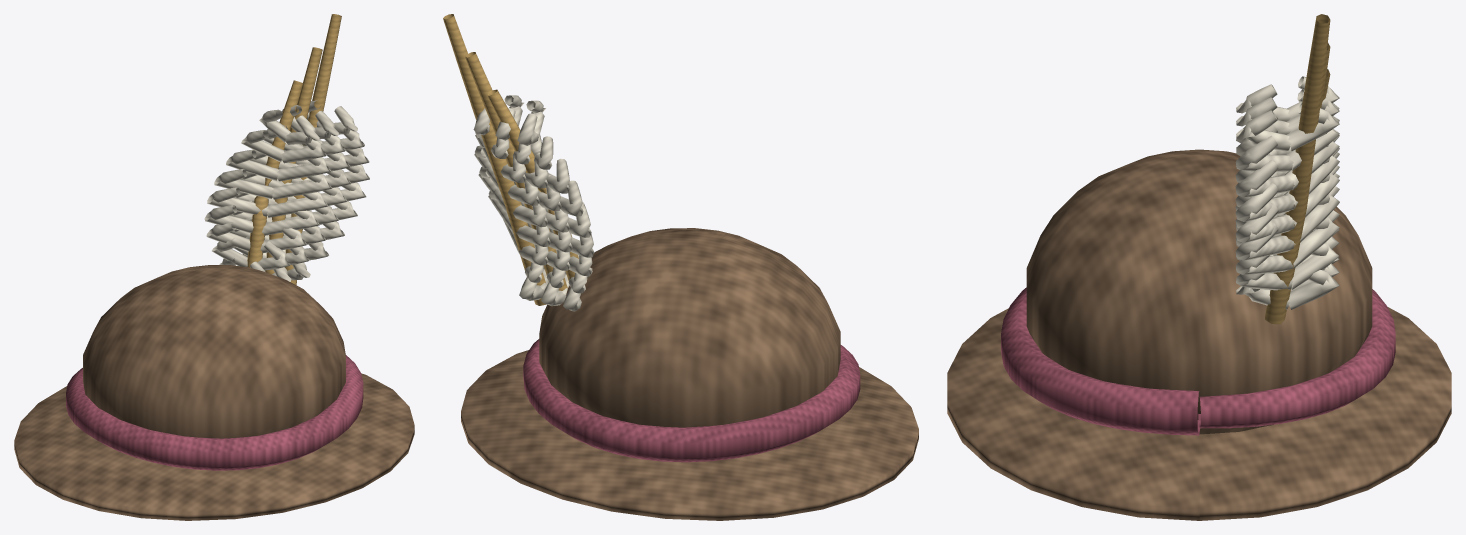
The model's file is acc_feather_hat.glb.
The picture shows the model from 3 angles, left to right: view 1: azimuth 30°, elevation 25°; view 2: azimuth 150°, elevation 25°; view 3: azimuth 270°, elevation 25°; orthographic projection. The views are drawn at different scales.
Visible parts, largest first — view 1: acc_feather_hat; view 2: acc_feather_hat; view 3: acc_feather_hat.
Part boxes in pixels (x1=…): acc_feather_hat: x1=14, y1=14, x2=414, y2=520; acc_feather_hat: x1=443, y1=14, x2=918, y2=520; acc_feather_hat: x1=947, y1=14, x2=1451, y2=520.
Bounding box in the file's own units: 1.31 × 1.3 × 1.14.
4 materials, 4 textured.
